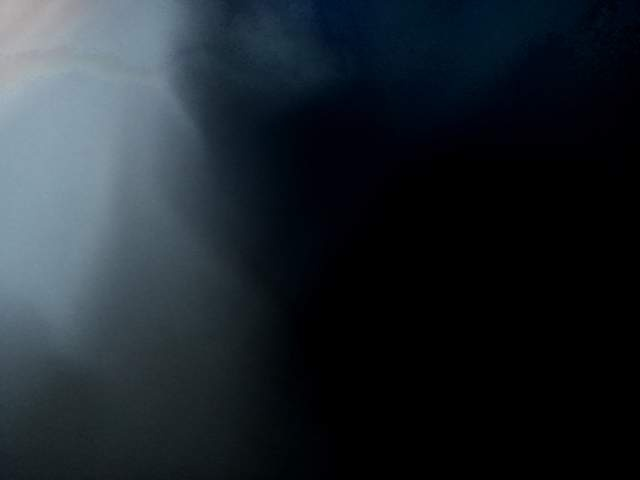pothole: (106, 403, 316, 480)
